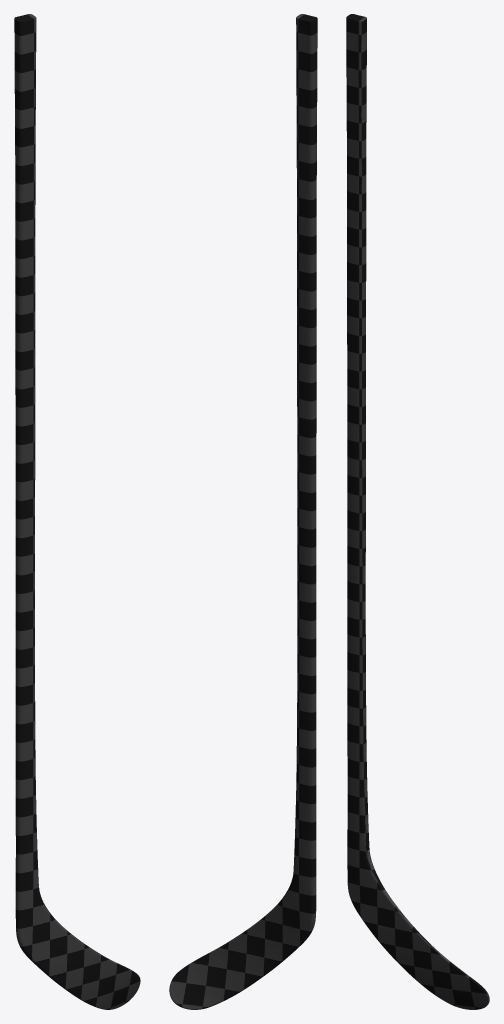
Rendered from P62-SBO.glb.
The picture shows the model from 3 angles, left to right: view 1: azimuth 30°, elevation 25°; view 2: azimuth 150°, elevation 25°; view 3: azimuth 330°, elevation 25°; orthographic projection. The views are drawn at different scales.
Parts seen in each view (by area): view 1: geometry_0; view 2: geometry_0; view 3: geometry_0.
Part boxes in pixels (x1,y1,x2,y2): geometry_0: (14,14,140,1009); geometry_0: (169,14,317,1009); geometry_0: (346,14,489,1009).
Bounding box in the file's own units: 229 × 1650 × 53.77.
Materials: 1 (1 with a texture image).
